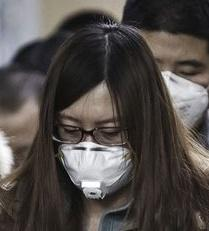OK: (122, 48, 209, 140), (57, 109, 137, 201)
